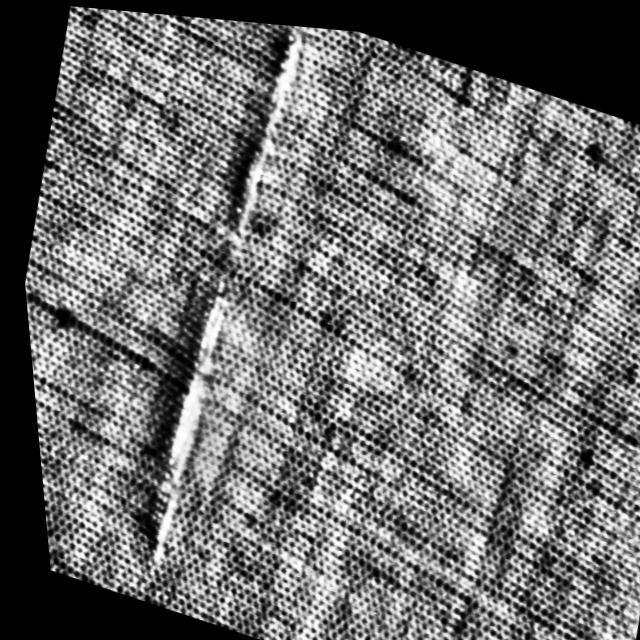Stitch: (84, 6, 354, 586)
